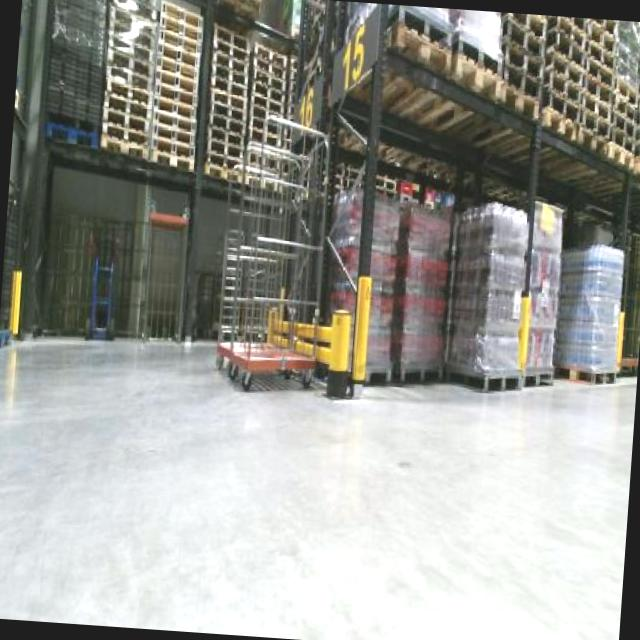pallet: (142, 0, 205, 172), (192, 30, 263, 178), (494, 23, 590, 122), (579, 22, 640, 159), (348, 361, 446, 399), (477, 362, 566, 396)
